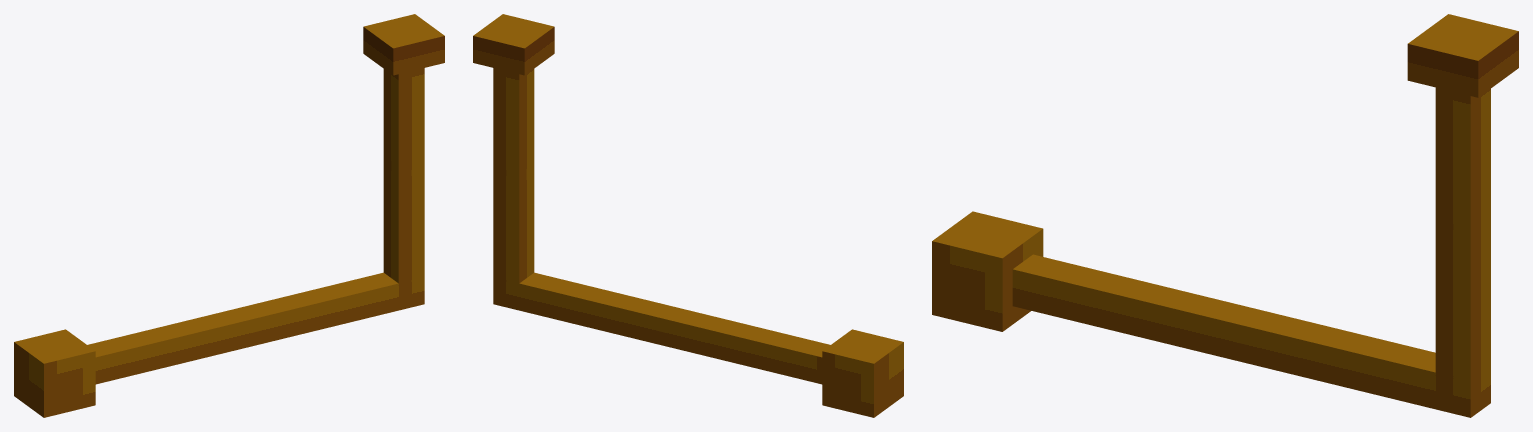
Rendered from orr_moon_branchao.fezao.glb.
3 renders of one model, left to right at view 1: azimuth 30°, elevation 25°; view 2: azimuth 150°, elevation 25°; view 3: azimuth 330°, elevation 25°, orthographic. The views are drawn at different scales.
Visible parts, largest first — view 1: ORR_MOON_BRANCHAO; view 2: ORR_MOON_BRANCHAO; view 3: ORR_MOON_BRANCHAO.
Boxes of the visible parts, bbox=[...] form: ORR_MOON_BRANCHAO: bbox=[14, 14, 444, 417]; ORR_MOON_BRANCHAO: bbox=[473, 14, 903, 417]; ORR_MOON_BRANCHAO: bbox=[932, 14, 1518, 417].
Bounding box in the file's own units: 1.94 × 1.31 × 0.25.
Materials: 1 (1 with a texture image).
